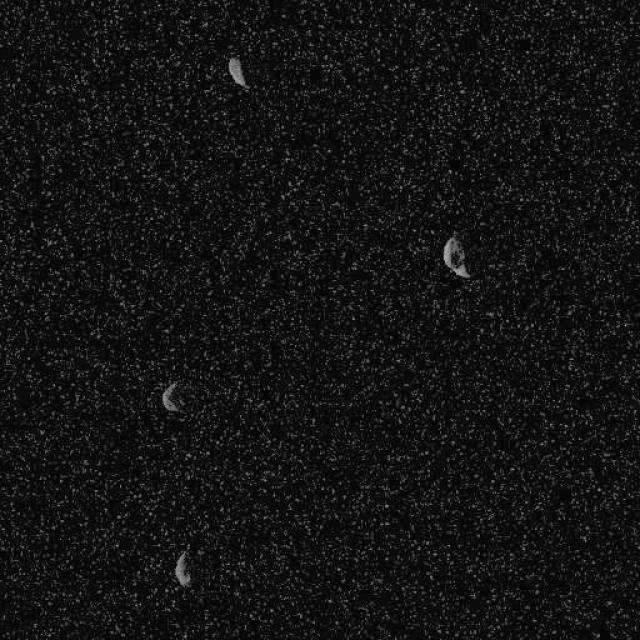D2: (441, 234, 471, 278), (160, 380, 188, 414), (226, 54, 250, 91), (172, 548, 192, 588)
